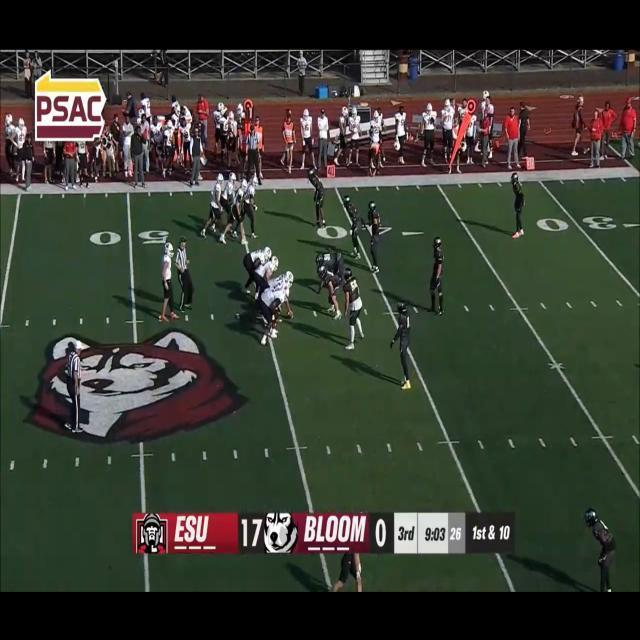football: (283, 308, 297, 322)
